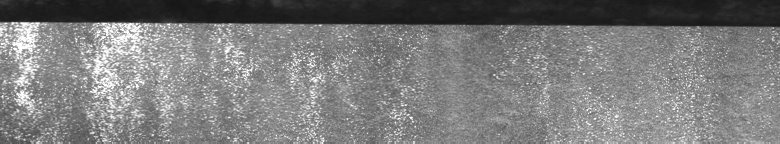kb: (4, 16, 776, 136)
